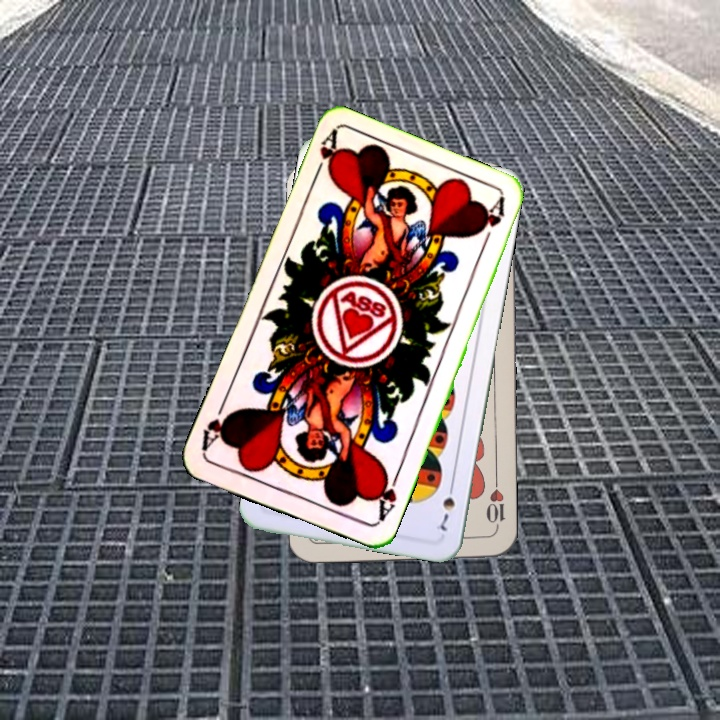H10: (482, 476, 508, 535)
HA: (308, 128, 343, 185), (371, 465, 402, 525)
S7: (432, 478, 458, 534)
